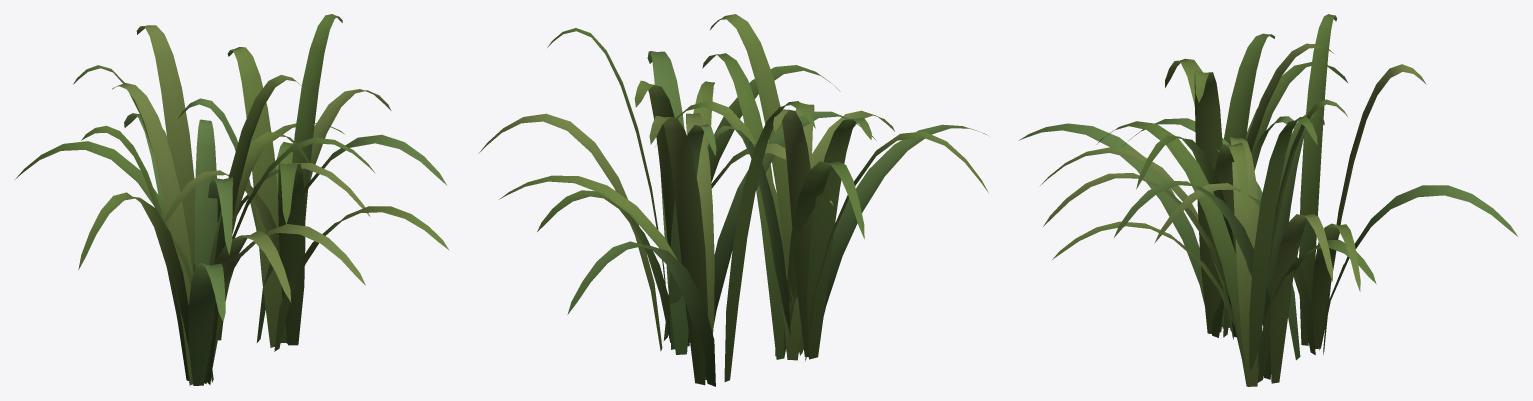
The model's file is SM_GrassLongCurved.fbx.
3 renders of one model, left to right at view 1: azimuth 30°, elevation 25°; view 2: azimuth 150°, elevation 25°; view 3: azimuth 270°, elevation 25°, orthographic. The views are drawn at different scales.
Parts seen in each view (by area): view 1: SM_GrassLongCurved; view 2: SM_GrassLongCurved; view 3: SM_GrassLongCurved.
Boxes of the visible parts, <box> form: SM_GrassLongCurved: <box>15,14,449,385</box>; SM_GrassLongCurved: <box>478,14,989,386</box>; SM_GrassLongCurved: <box>1019,14,1517,386</box>.
Bounding box in the file's own units: 1.18 × 1.27 × 0.8344.
1 material, 1 textured.
